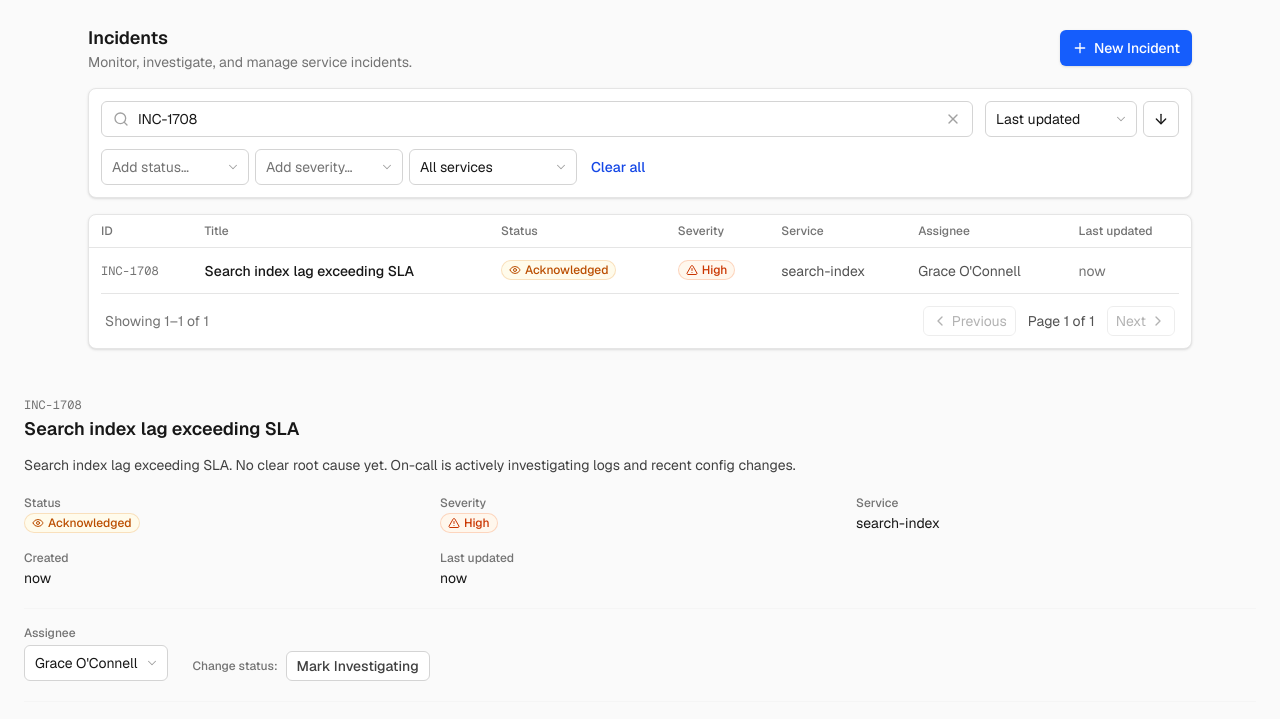
list stays in sync with detail mutations › updates the list row from the mutation response, not a refetch
Check: the row that starts with "INC-1708" is shown, box [89, 248, 1191, 293]
Check: the 1st text "Acknowledged" is shown, box [501, 260, 616, 280]
Step 1. Click the button "Mark Investigating" → (358, 666), box [286, 651, 430, 681]
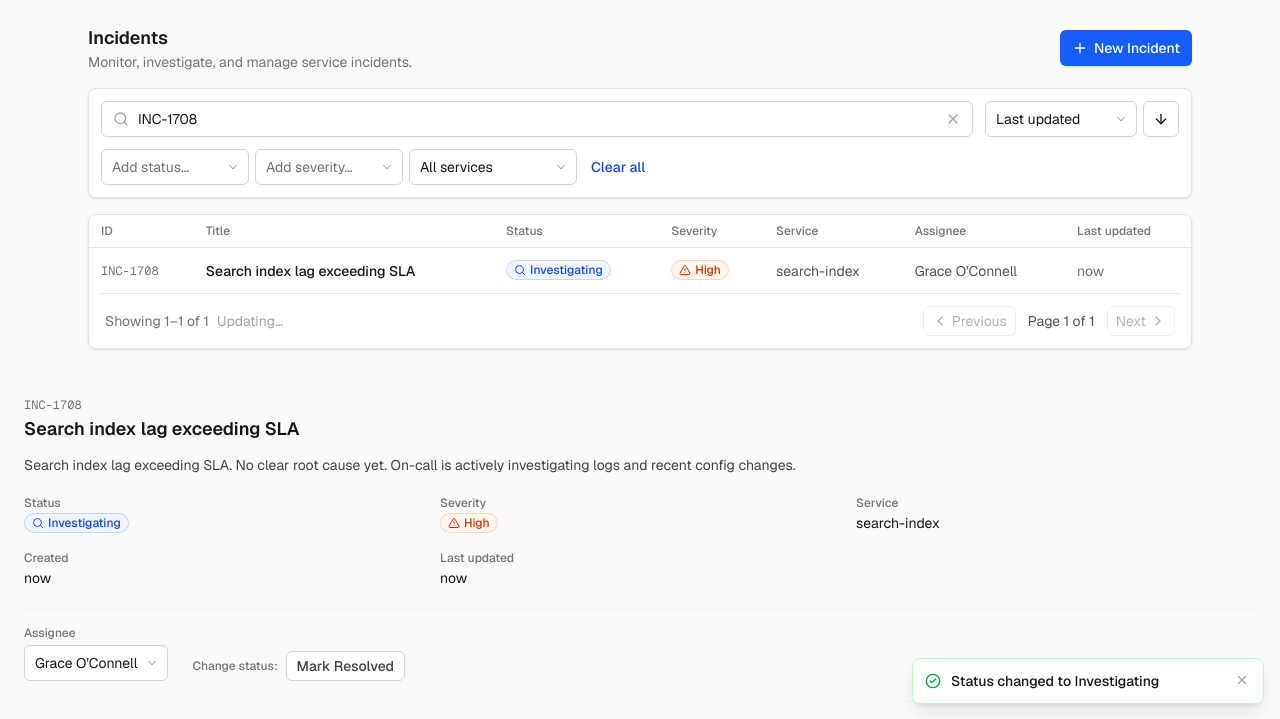
Check: the 1st text "Investigating" is shown, box [506, 260, 611, 280]
Check: the text "Acknowledged" is gone
